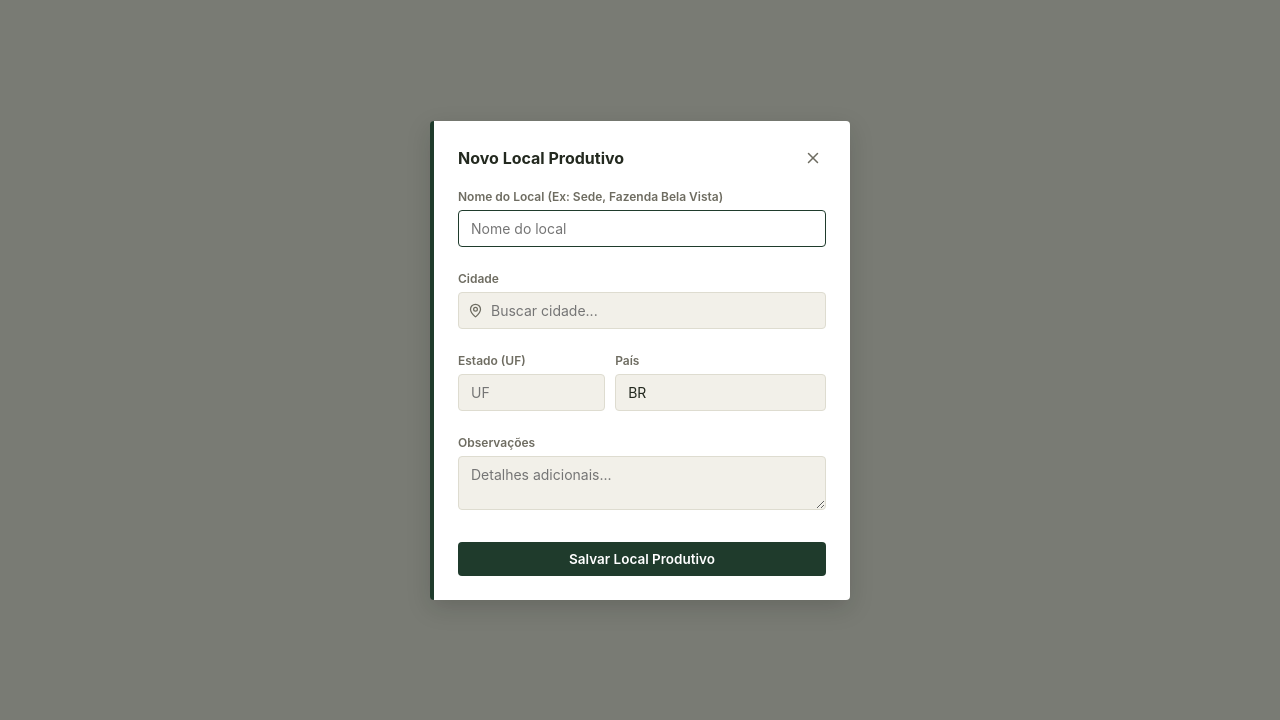
SiteFormModal › 8. Erro do serviço
Type "Fábrica" into the field with placeholder "Nome do local" at x=642, y=228, box [458, 210, 826, 246]
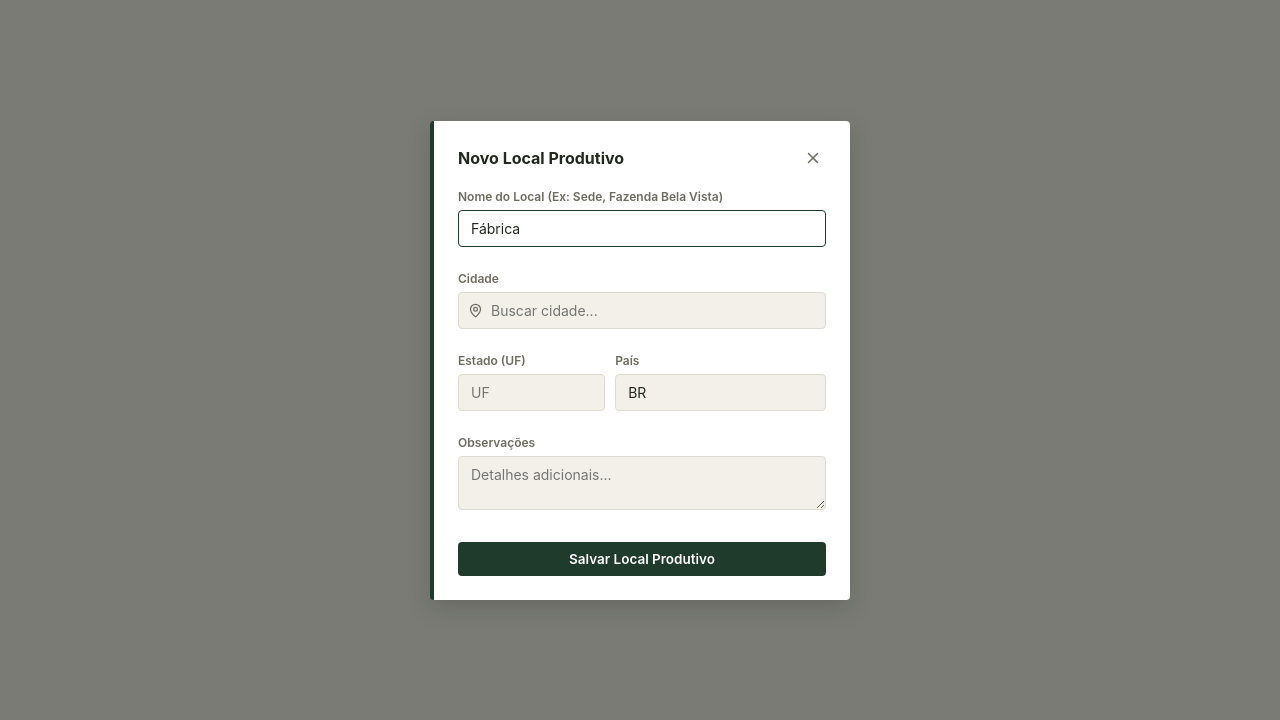
Type "City" into the field with placeholder "Buscar cidade..." at x=642, y=310, box [458, 292, 826, 328]
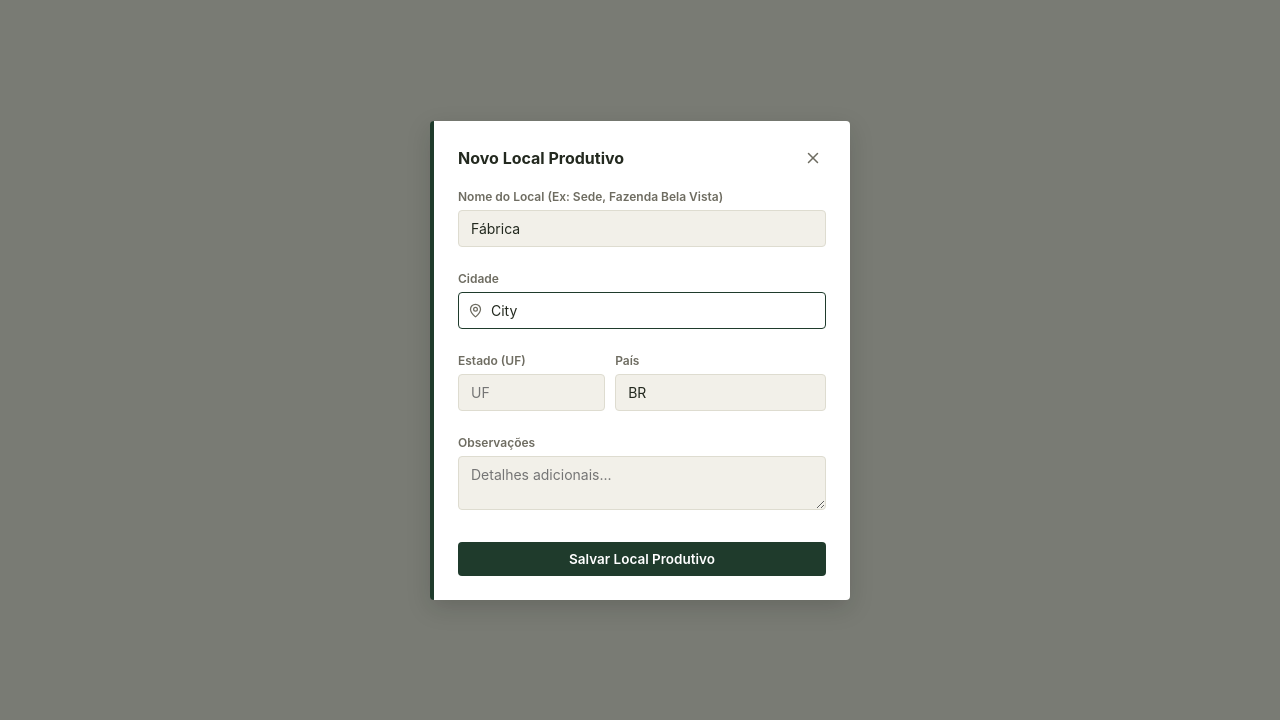
Type "ST" into the field with placeholder "UF" at x=532, y=392, box [458, 374, 605, 410]
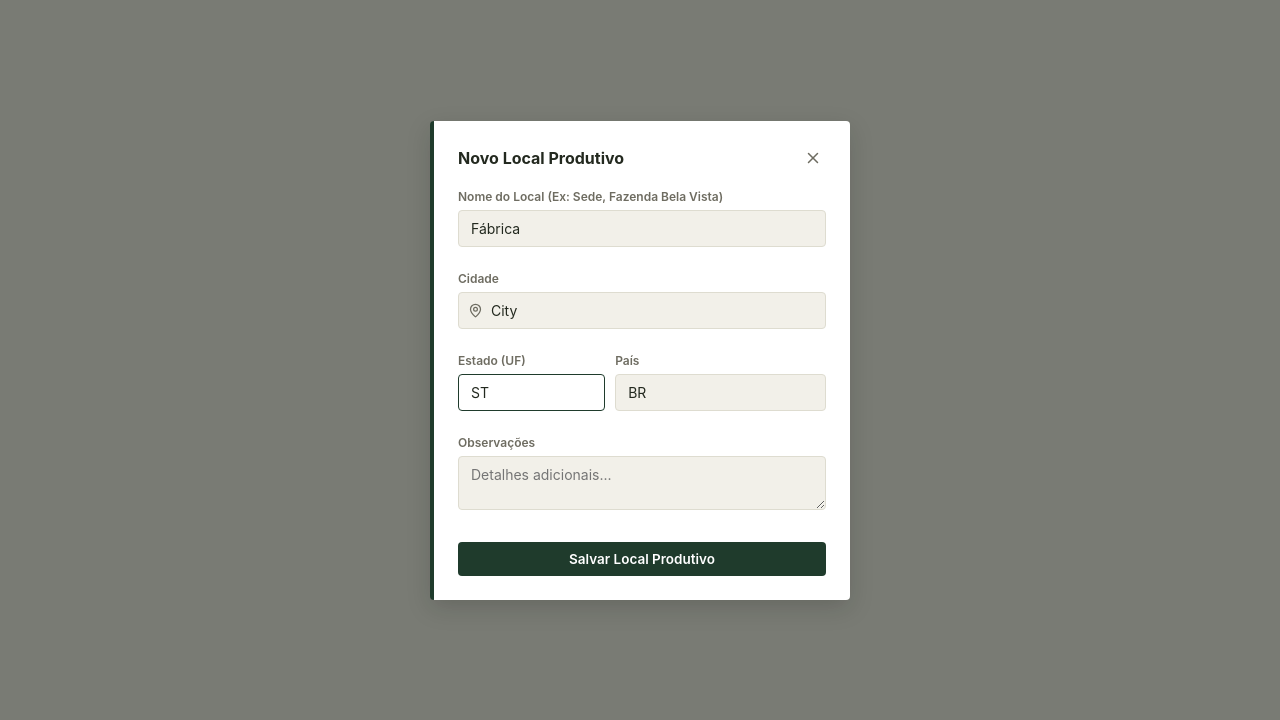
Submit the form, box [458, 188, 826, 576]
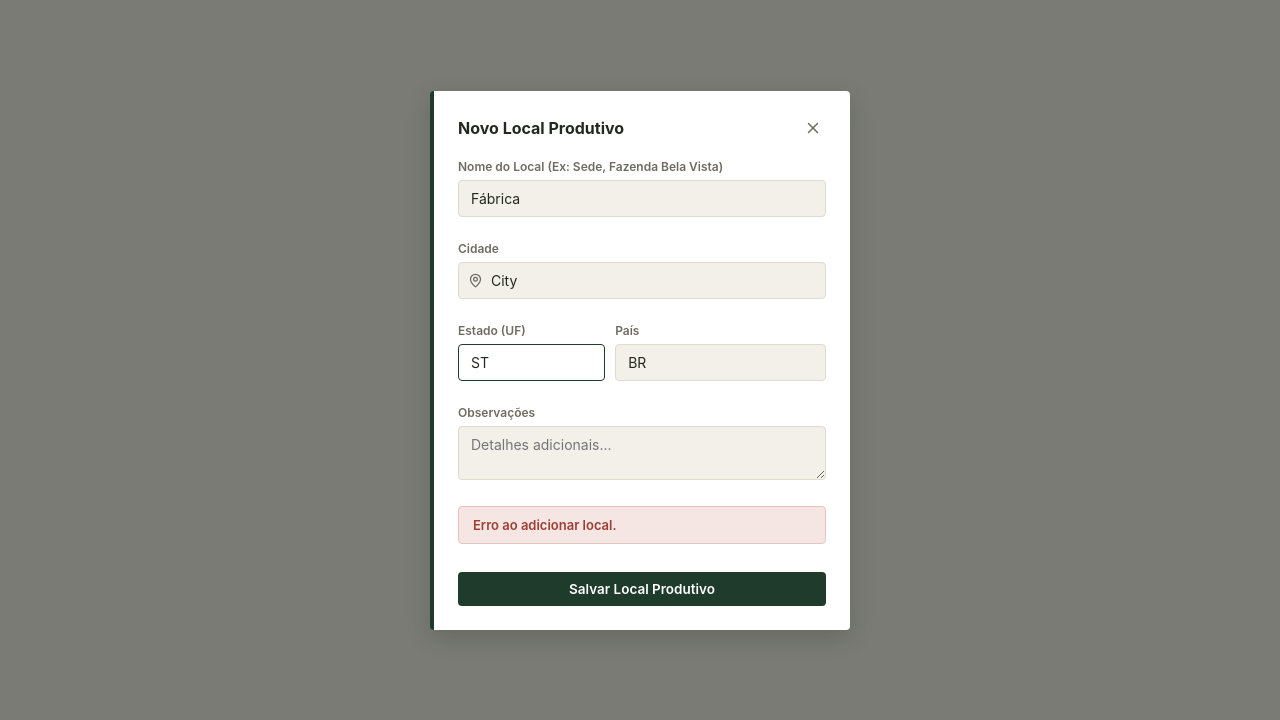
Check: the text "Erro ao adicionar local." is shown, box [458, 506, 826, 544]
